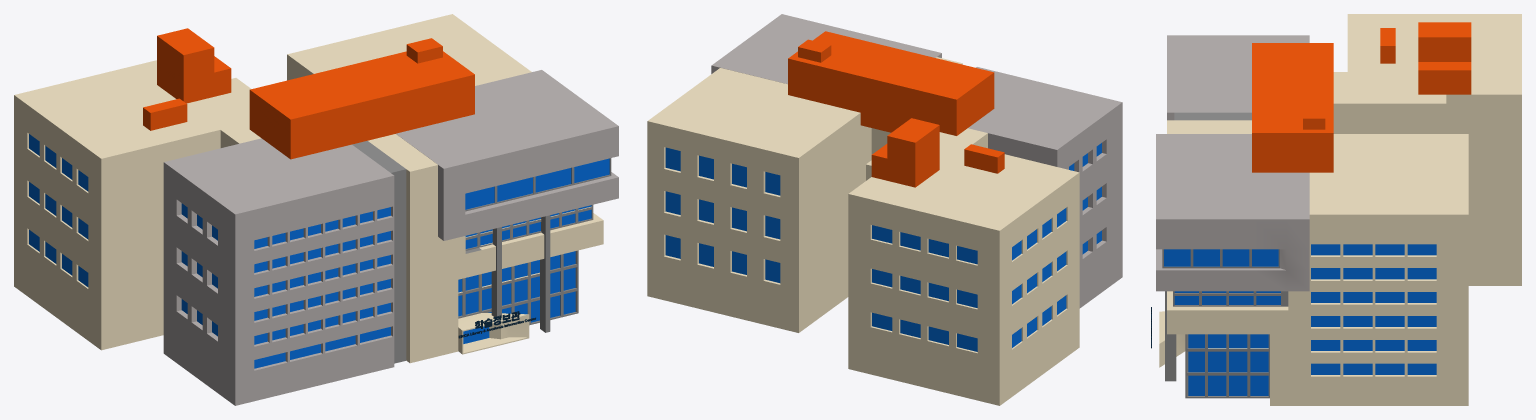
The model's file is 학술정보관.fbx.
3 views of the same model, side by side, from view 1: azimuth 30°, elevation 25°; view 2: azimuth 150°, elevation 25°; view 3: azimuth 270°, elevation 25° (orthographic). The views are drawn at different scales.
Parts seen in each view (by area): view 1: 학술정보관_4, Cube_10, Cube_60, Cube_13_2, Cube_57, Cube_59, Cube_2, Cube_13, Cube_58, Cube_11, Cube_12, Cube_12_2 (+1 smaller); view 2: 학술정보관_4, Cube_10, Cube, Cube_1, Cube_13_2, Cube_2, Cube_11, Cube_12_2, Cube_3; view 3: 학술정보관_4, Cube_10, Cube_61, Cube_57, Cube_13_2, Cube_59, Cube_58, Cube_13, Cube_11, Cube_12_2.
Part boxes in pixels (x1=…): 학술정보관_4: x1=14, y1=14, x2=618, y2=405; Cube_10: x1=249, y1=51, x2=474, y2=159; Cube_60: x1=254, y1=207, x2=390, y2=368; Cube_13_2: x1=157, y1=28, x2=231, y2=103; Cube_57: x1=458, y1=251, x2=575, y2=322; Cube_59: x1=465, y1=158, x2=609, y2=209; Cube_2: x1=29, y1=134, x2=88, y2=286; Cube_13: x1=540, y1=215, x2=550, y2=332; Cube_58: x1=465, y1=205, x2=591, y2=248; Cube_11: x1=143, y1=98, x2=187, y2=130; Cube_12: x1=491, y1=227, x2=501, y2=318; Cube_12_2: x1=406, y1=38, x2=442, y2=63; 학술정보관_4: x1=647, y1=14, x2=1122, y2=405; Cube_10: x1=788, y1=31, x2=994, y2=135; Cube: x1=665, y1=147, x2=780, y2=282; Cube_1: x1=872, y1=225, x2=977, y2=351; Cube_13_2: x1=871, y1=118, x2=939, y2=187; Cube_2: x1=1012, y1=208, x2=1066, y2=347; Cube_11: x1=964, y1=144, x2=1004, y2=173; Cube_12_2: x1=798, y1=39, x2=831, y2=62; Cube_3: x1=1069, y1=143, x2=1101, y2=254; 학술정보관_4: x1=1156, y1=14, x2=1521, y2=405; Cube_10: x1=1252, y1=43, x2=1333, y2=172; Cube_61: x1=1311, y1=244, x2=1436, y2=374; Cube_57: x1=1188, y1=334, x2=1268, y2=395; Cube_13_2: x1=1418, y1=22, x2=1471, y2=94; Cube_59: x1=1164, y1=249, x2=1278, y2=266; Cube_58: x1=1174, y1=291, x2=1280, y2=304; Cube_13: x1=1165, y1=291, x2=1176, y2=381; Cube_11: x1=1380, y1=28, x2=1395, y2=63; Cube_12_2: x1=1303, y1=106, x2=1325, y2=129.
Bounding box in the file's own units: 1002 × 555 × 765.
